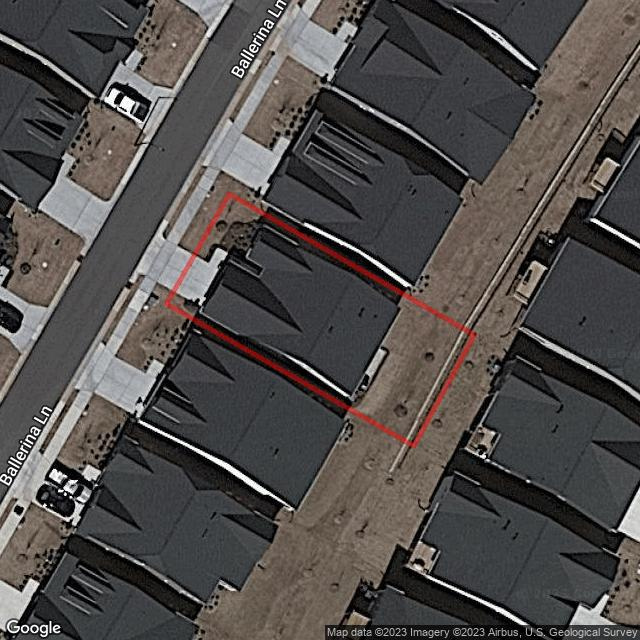Driveway: (178, 249, 226, 303), (158, 246, 191, 288)
Extra Driveway: (129, 220, 170, 284), (149, 240, 178, 279)
Extra Lawn: (180, 172, 259, 251), (163, 166, 208, 238), (152, 284, 168, 302), (134, 273, 145, 288)
Extra Sidewalk: (167, 168, 221, 246), (139, 275, 158, 293)
House: (200, 226, 402, 399)
